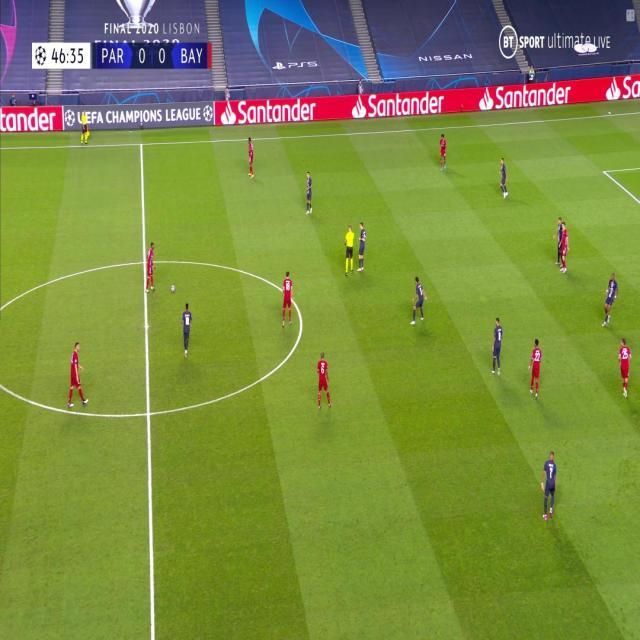ball: (170, 283, 176, 292)
player: (66, 339, 89, 409), (541, 450, 558, 523), (527, 338, 544, 400), (600, 272, 619, 327), (316, 351, 332, 410), (618, 337, 632, 400), (410, 275, 427, 324), (490, 316, 503, 377), (554, 217, 568, 273), (281, 270, 294, 329), (180, 302, 193, 359), (145, 241, 157, 293), (356, 221, 368, 272), (497, 156, 509, 198), (246, 136, 257, 179), (304, 170, 314, 216), (439, 132, 449, 171)
referee: (343, 223, 355, 277), (79, 111, 90, 146)
